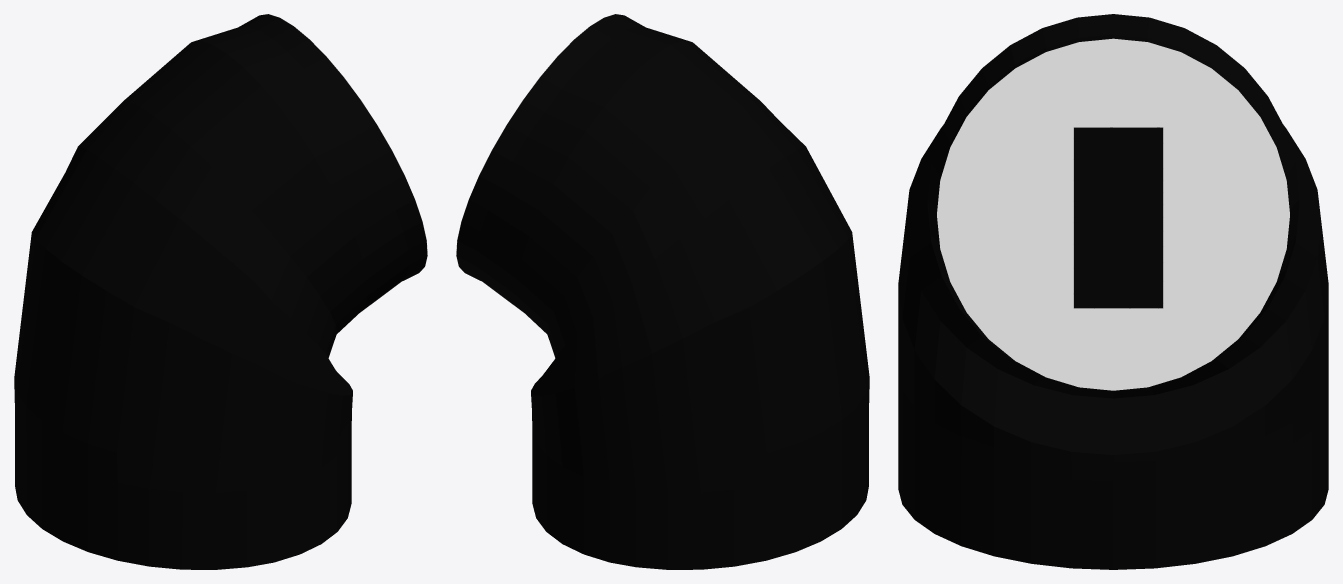
3 renders of one model, left to right at view 1: azimuth 30°, elevation 25°; view 2: azimuth 150°, elevation 25°; view 3: azimuth 270°, elevation 25°, orthographic. The views are drawn at different scales.
Visible parts, largest first — view 1: 圆环; view 2: 圆环; view 3: 圆环.
Part boxes in pixels (left/top/right/bottom): 圆环: left=14, top=14, right=427, bottom=569; 圆环: left=456, top=14, right=869, bottom=569; 圆环: left=898, top=14, right=1328, bottom=569.
Size of the model in its own units: 261 by 321 by 244.
Materials: 3 (1 with a texture image).
